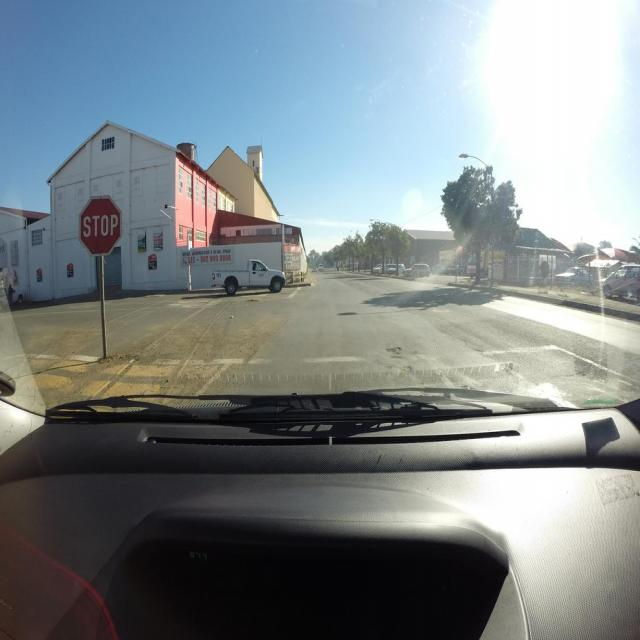Pothole: (384, 346, 402, 354), (461, 384, 474, 390), (390, 355, 401, 360), (401, 366, 412, 371)
